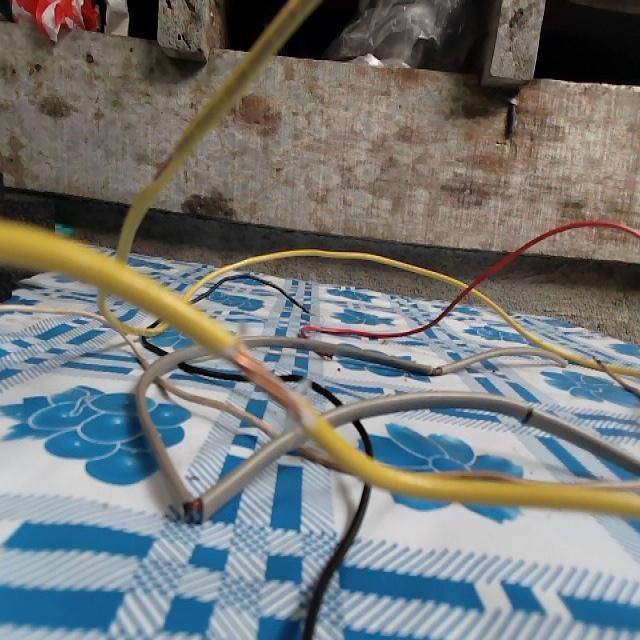-: (222, 337, 319, 432), (179, 488, 206, 528), (515, 400, 535, 429), (425, 361, 443, 379)
